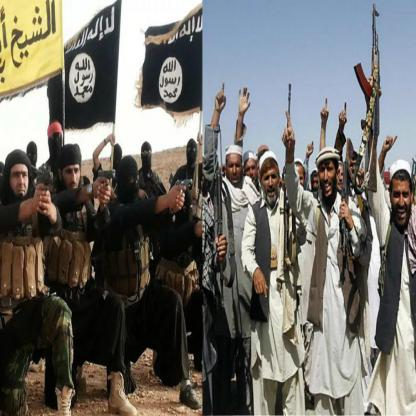pistol: (171, 174, 197, 212), (32, 168, 56, 209), (94, 165, 120, 198)
rifle: (352, 3, 383, 194), (211, 154, 233, 311), (336, 157, 354, 290)
